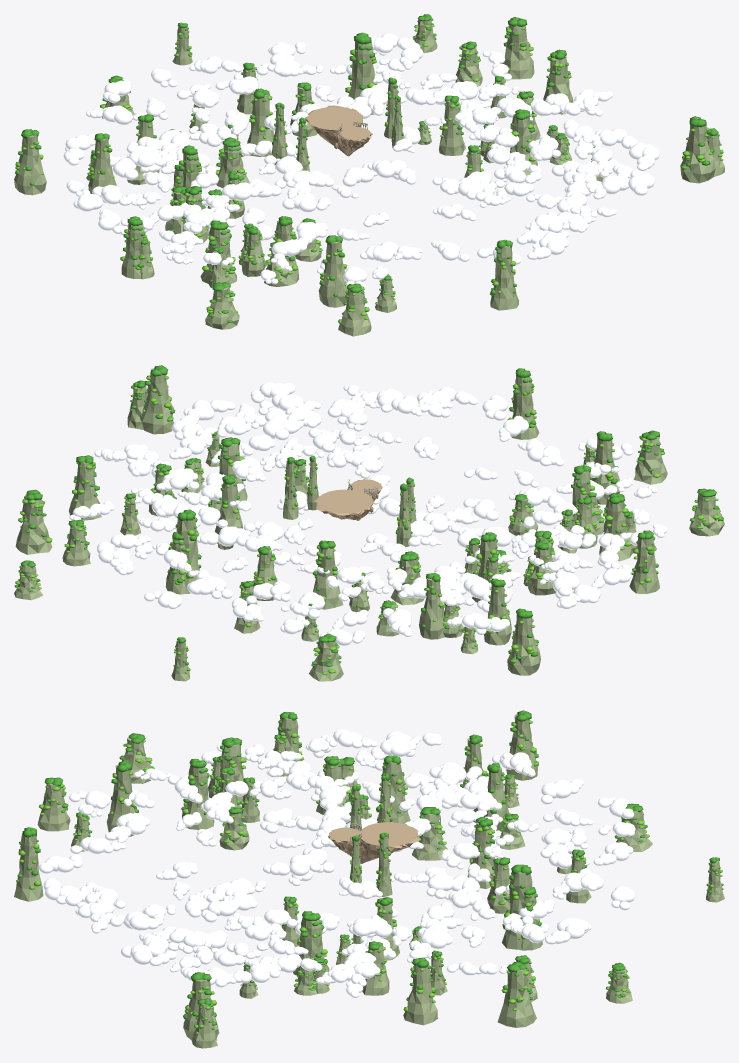
Rendered from TowerOfPets_Environment.fbx.
3 views of the same model, one above another, from view 1: azimuth 30°, elevation 25°; view 2: azimuth 150°, elevation 25°; view 3: azimuth 270°, elevation 25° (orthographic). The views are drawn at different scales.
Visible parts, largest first — view 1: Hub_Island_Rock__Cliff_Rock, Mountain_03__Mountain, Mountain_27__Mountain, Mountain_12__Mountain, Mountain_08__Mountain, Mountain_16__Mountain, Mountain_52__Mountain, Mountain_23__Mountain, Mountain_04__Mountain, Mountain_39__Mountain, Mountain_10__Mountain, Mountain_45__Mountain (+26 smaller); view 2: Hub_Island_Rock__Cliff_Rock, Mountain_03__Mountain, Mountain_16__Mountain, Mountain_12__Mountain, Mountain_36__Mountain, Mountain_41__Mountain, Mountain_52__Mountain, Mountain_10__Mountain, Mountain_08__Mountain, Mountain_39__Mountain, Mountain_13__Mountain, Mountain_05__Mountain (+37 smaller); view 3: Hub_Island_Rock__Cliff_Rock, Mountain_16__Mountain, Mountain_13__Mountain, Mountain_08__Mountain, Mountain_52__Mountain, Mountain_23__Mountain, Mountain_27__Mountain, Mountain_02__Mountain, Mountain_12__Mountain, CloudSea_023__Cloud, Mountain_38__Mountain, Mountain_03__Mountain (+38 smaller).
Boxes of the visible parts, left/top/right/bottom form: Hub_Island_Rock__Cliff_Rock: left=305, top=105, right=372, bottom=156; Mountain_03__Mountain: left=680, top=119, right=715, bottom=183; Mountain_27__Mountain: left=318, top=241, right=347, bottom=307; Mountain_12__Mountain: left=14, top=135, right=46, bottom=195; Mountain_08__Mountain: left=490, top=246, right=518, bottom=310; Mountain_16__Mountain: left=502, top=25, right=534, bottom=79; Mountain_52__Mountain: left=338, top=285, right=371, bottom=336; Mountain_23__Mountain: left=348, top=36, right=374, bottom=114; Mountain_04__Mountain: left=438, top=101, right=465, bottom=155; Mountain_39__Mountain: left=205, top=287, right=239, bottom=329; Mountain_10__Mountain: left=247, top=94, right=274, bottom=156; Mountain_45__Mountain: left=88, top=138, right=116, bottom=193; Hub_Island_Rock__Cliff_Rock: left=314, top=479, right=382, bottom=520; Mountain_03__Mountain: left=140, top=368, right=173, bottom=434; Mountain_16__Mountain: left=15, top=494, right=52, bottom=554; Mountain_12__Mountain: left=507, top=615, right=540, bottom=675; Mountain_36__Mountain: left=419, top=578, right=444, bottom=639; Mountain_41__Mountain: left=629, top=537, right=659, bottom=593; Mountain_52__Mountain: left=633, top=432, right=667, bottom=484; Mountain_10__Mountain: left=313, top=547, right=343, bottom=609; Mountain_08__Mountain: left=511, top=375, right=539, bottom=439; Mountain_39__Mountain: left=689, top=489, right=724, bottom=536; Mountain_13__Mountain: left=69, top=462, right=101, bottom=520; Mountain_05__Mountain: left=309, top=640, right=343, bottom=681; Hub_Island_Rock__Cliff_Rock: left=328, top=822, right=419, bottom=863; Mountain_16__Mountain: left=497, top=969, right=536, bottom=1027; Mountain_13__Mountain: left=403, top=960, right=437, bottom=1025; Mountain_08__Mountain: left=14, top=831, right=43, bottom=901; Mountain_52__Mountain: left=37, top=784, right=70, bottom=831; Mountain_23__Mountain: left=502, top=872, right=532, bottom=949; Mountain_27__Mountain: left=106, top=764, right=136, bottom=836; Mountain_02__Mountain: left=412, top=813, right=447, bottom=860; Mountain_12__Mountain: left=506, top=714, right=538, bottom=780; CloudSea_023__Cloud: left=262, top=855, right=323, bottom=875; Mountain_38__Mountain: left=184, top=765, right=214, bottom=829; Mountain_03__Mountain: left=183, top=979, right=219, bottom=1039.
Size of what is drawn, in the model's own units: 751336 by 114593 by 793014.
